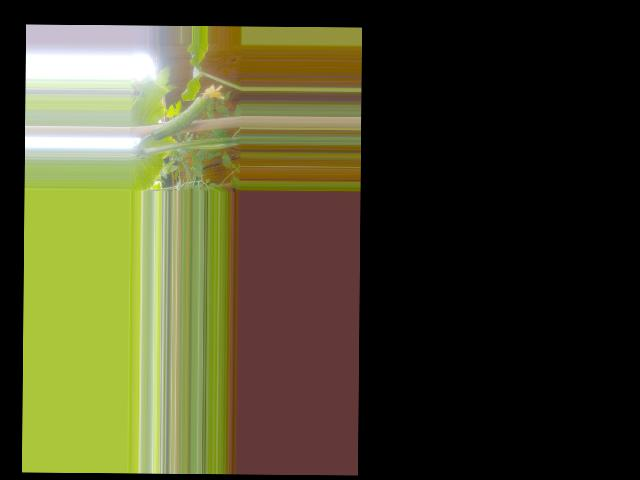cucumber: (151, 83, 225, 140)
